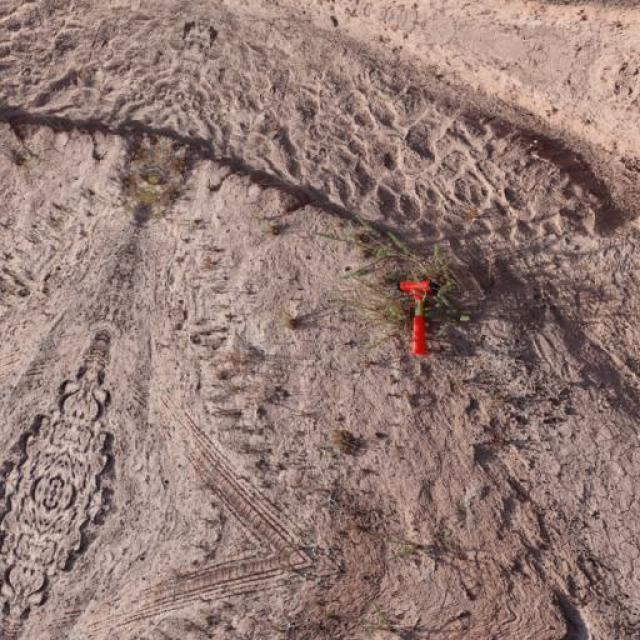mallet: (398, 279, 432, 356)
